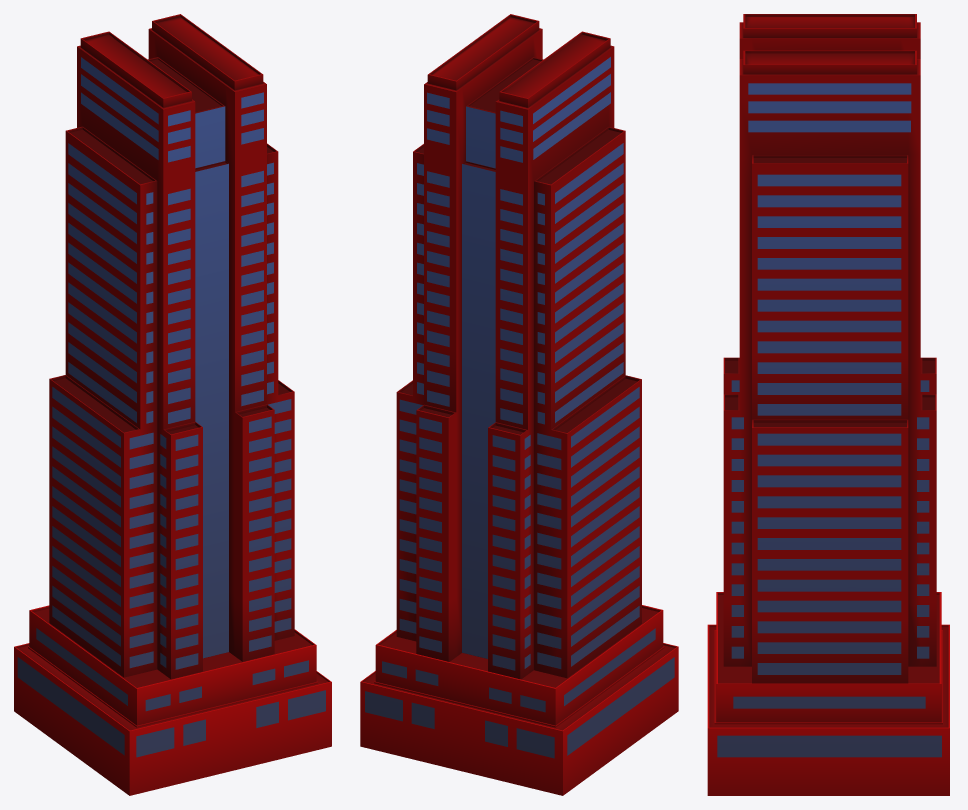
Rendered from Mesh.Skyscraper.fbx.
The picture shows the model from 3 angles, left to right: view 1: azimuth 30°, elevation 25°; view 2: azimuth 150°, elevation 25°; view 3: azimuth 270°, elevation 25°; orthographic projection. The views are drawn at different scales.
Visible parts, largest first — view 1: base.049, windowRefl.032; view 2: base.049, windowRefl.032; view 3: base.049, windowRefl.032.
Part boxes in pixels (bbox=[...]): base.049: bbox=[14, 14, 331, 795]; windowRefl.032: bbox=[17, 57, 325, 757]; base.049: bbox=[360, 14, 678, 795]; windowRefl.032: bbox=[365, 57, 674, 758]; base.049: bbox=[707, 14, 949, 795]; windowRefl.032: bbox=[717, 83, 941, 757].
Size of the model in its own units: 2110 by 2102 by 6645.
